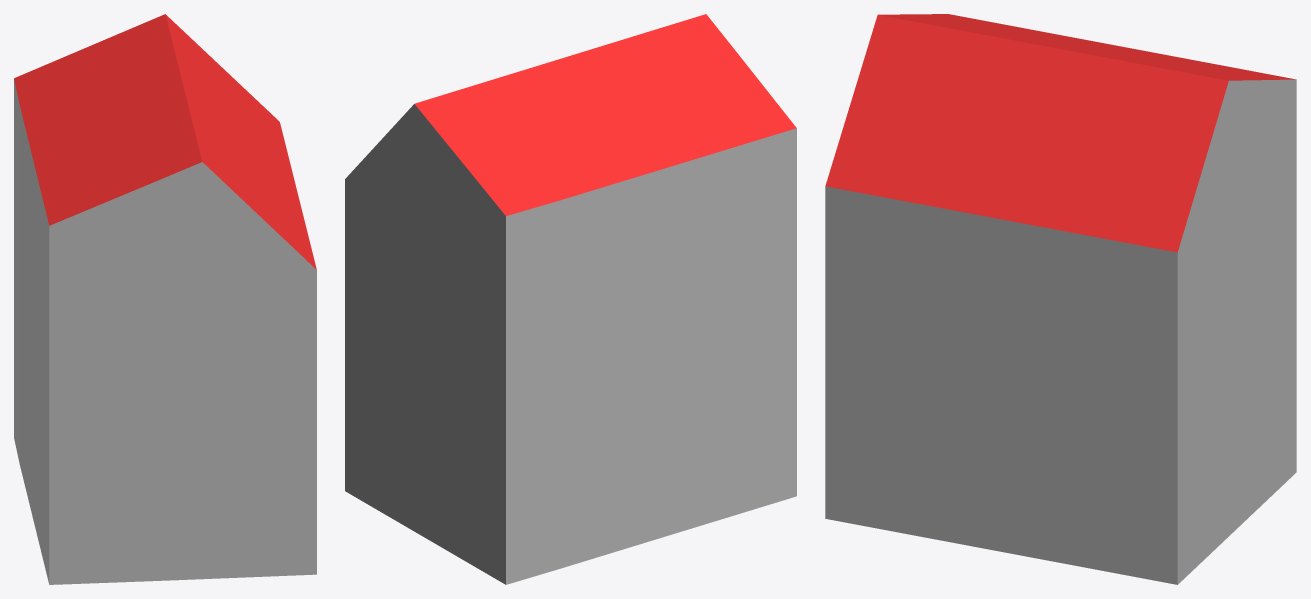
File: DEBY_LOD2_4907158.dae
3 views of the same model, side by side, from view 1: azimuth 30°, elevation 25°; view 2: azimuth 150°, elevation 25°; view 3: azimuth 270°, elevation 25° (orthographic). The views are drawn at different scales.
Size of the model in its own units: 16.51 by 18.39 by 19.62.
